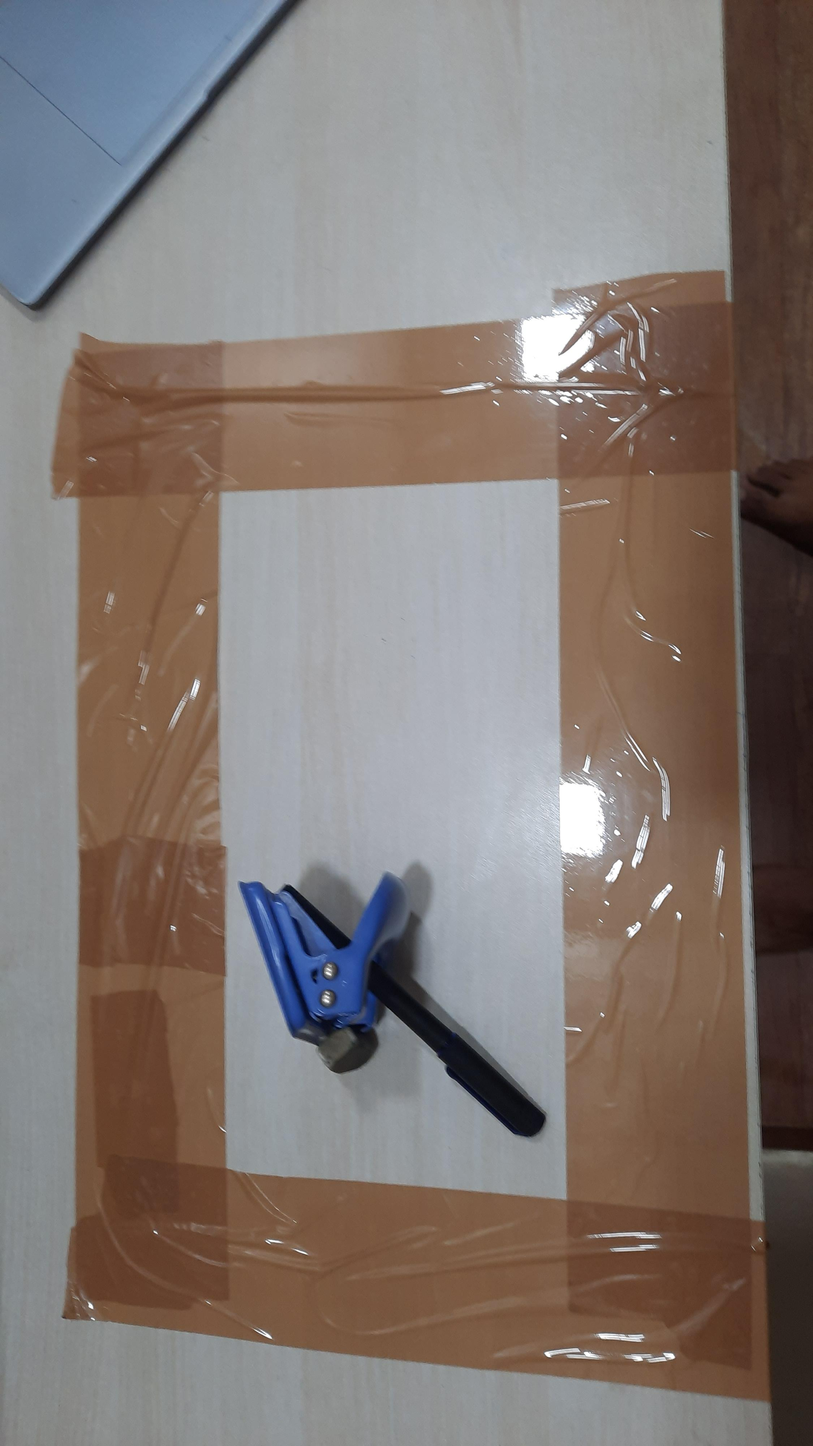Eraser: (318, 1024, 378, 1075)
Pen: (282, 883, 549, 1139)
Punch: (238, 871, 407, 1047)
